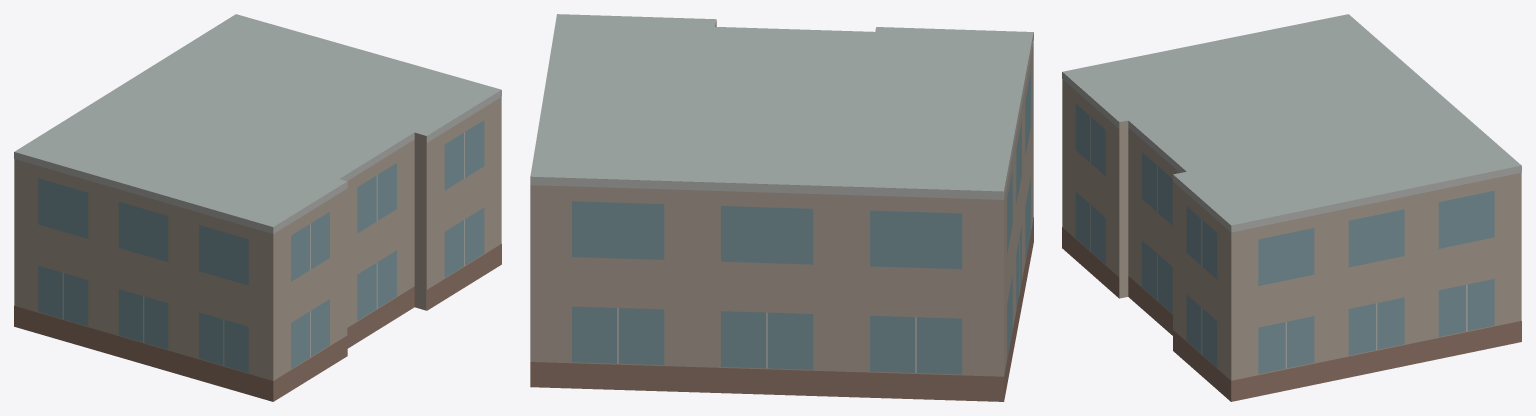
File: survey-upis-32698034.glb
The picture shows the model from 3 angles, left to right: view 1: azimuth 30°, elevation 25°; view 2: azimuth 150°, elevation 25°; view 3: azimuth 270°, elevation 25°; orthographic projection. The views are drawn at different scales.
Visible parts, largest first — view 1: survey-upis-32698034.tmp; view 2: survey-upis-32698034.tmp; view 3: survey-upis-32698034.tmp.
Part boxes in pixels (x1,y1,x2,y2): survey-upis-32698034.tmp: [14, 14, 501, 401]; survey-upis-32698034.tmp: [530, 14, 1033, 401]; survey-upis-32698034.tmp: [1062, 14, 1521, 401].
Bounding box in the file's own units: 15.7 × 6.1 × 14.42.
